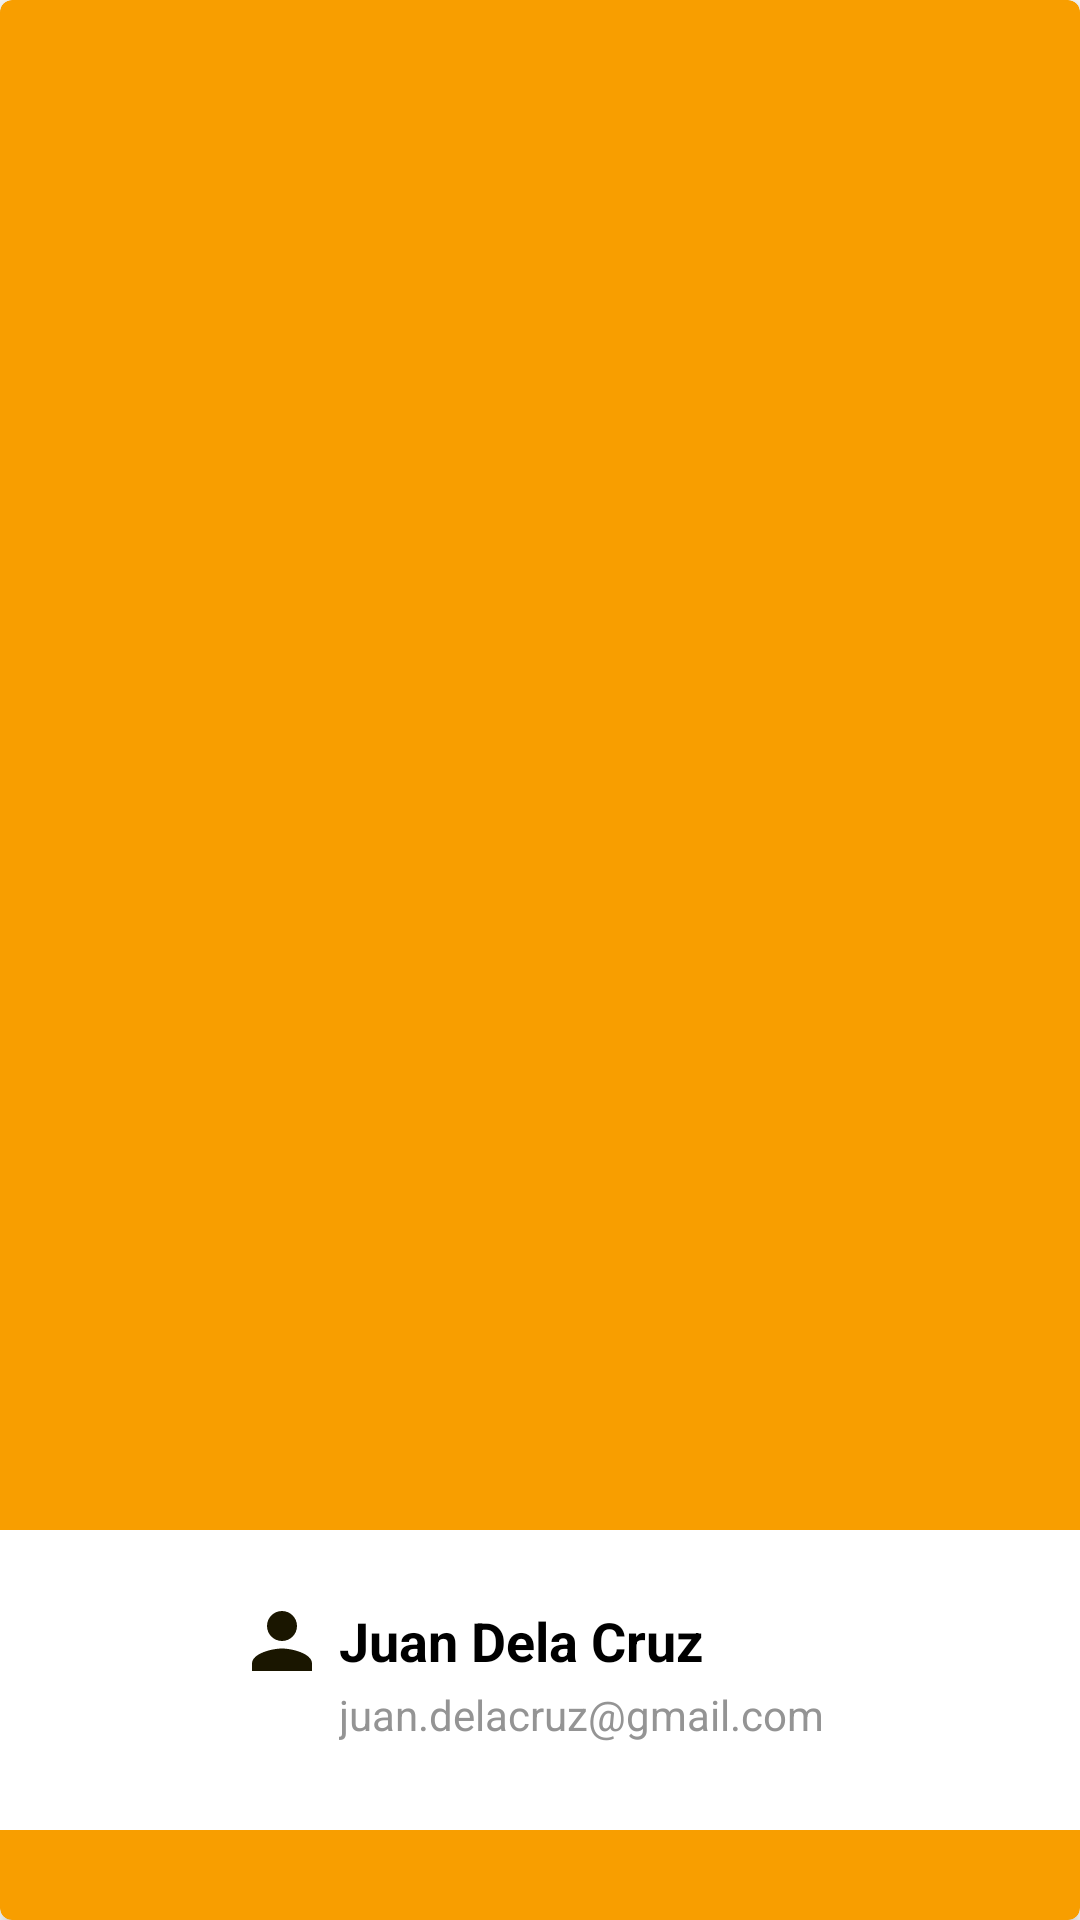

Point at icon controls on the screen. Image size 1080w x 1920h, points as point (x, y).
person: point (282, 1641)
